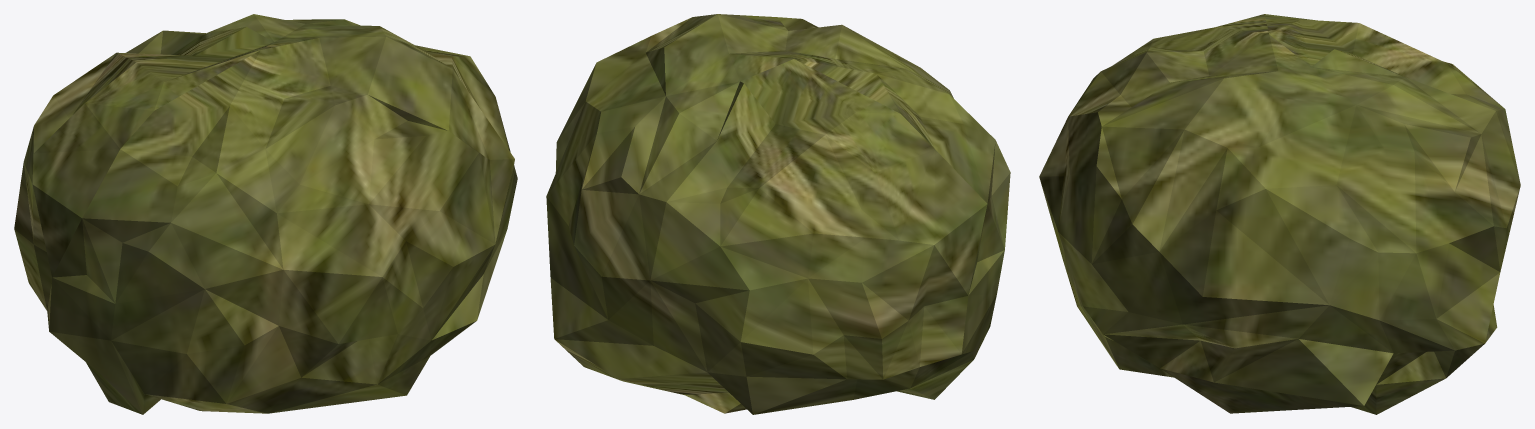
Rendered from bush.fbx.
3 views of the same model, side by side, from view 1: azimuth 30°, elevation 25°; view 2: azimuth 150°, elevation 25°; view 3: azimuth 270°, elevation 25° (orthographic). The views are drawn at different scales.
Parts seen in each view (by area): view 1: Cube; view 2: Cube; view 3: Cube.
Boxes of the visible parts, x1=… form: Cube: x1=14, y1=14, x2=517, y2=414; Cube: x1=546, y1=14, x2=1010, y2=414; Cube: x1=1039, y1=14, x2=1520, y2=414.
Size of the model in its own units: 1.93 by 1.95 by 1.47.
